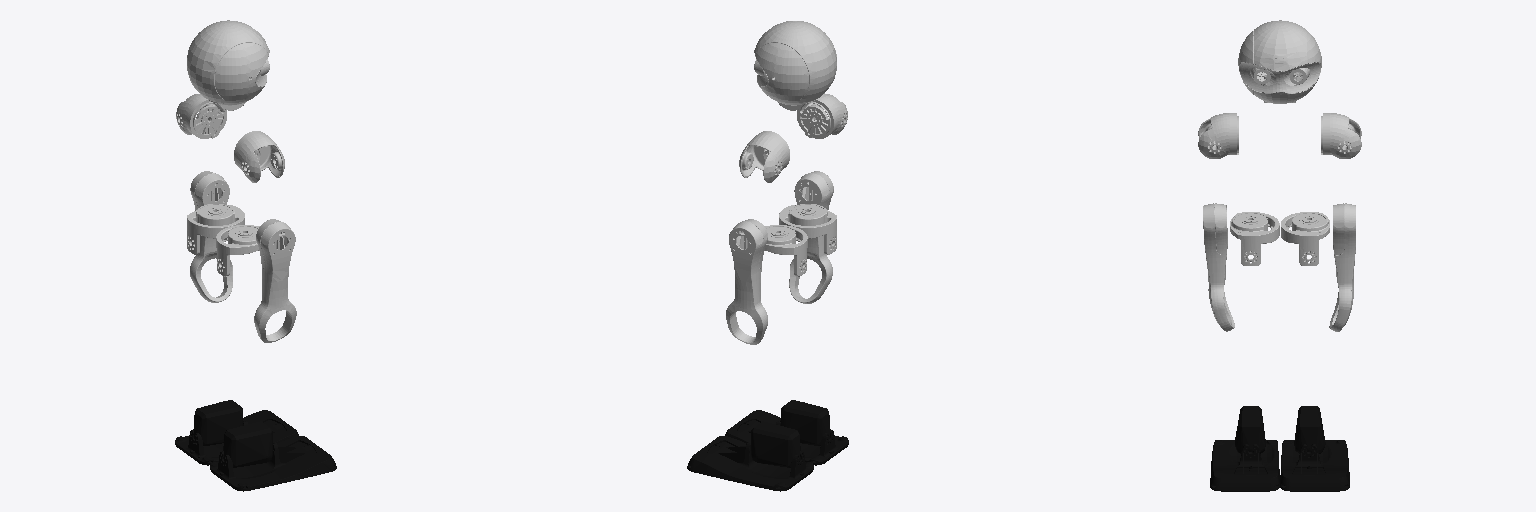
--- Render facts (derived) ---
3 views of the same robot in one strip: view 1: azimuth 30°, elevation 25°; view 2: azimuth 150°, elevation 25°; view 3: azimuth 270°, elevation 25° (orthographic).
Model igus_op with 24 links and 23 joints (20 continuous, 3 fixed), rooted at trunk_link, posed every joint at zero.
Links seen in each view (by area): view 1: head_link, right_foot_link, right_lower_arm_link, left_lower_arm_link, right_ankle_link, right_shoulder_pitch_link, left_foot_link, left_hip_yaw_link, left_shoulder_pitch_link, left_ankle_link, right_hip_yaw_link; view 2: head_link, left_foot_link, left_lower_arm_link, right_lower_arm_link, left_ankle_link, left_shoulder_pitch_link, right_foot_link, right_hip_yaw_link, right_shoulder_pitch_link, right_ankle_link, left_hip_yaw_link; view 3: head_link, left_foot_link, right_foot_link, right_lower_arm_link, left_lower_arm_link, right_hip_yaw_link, left_hip_yaw_link, right_shoulder_pitch_link, left_shoulder_pitch_link, right_ankle_link, left_ankle_link.
Link boxes in pixels (x1=…): head_link: x1=187, y1=20, x2=269, y2=110; right_foot_link: x1=210, y1=436, x2=336, y2=491; right_lower_arm_link: x1=254, y1=219, x2=296, y2=342; left_lower_arm_link: x1=190, y1=171, x2=232, y2=302; right_ankle_link: x1=223, y1=421, x2=272, y2=467; right_shoulder_pitch_link: x1=234, y1=131, x2=284, y2=182; left_foot_link: x1=175, y1=410, x2=298, y2=465; left_hip_yaw_link: x1=187, y1=204, x2=244, y2=254; left_shoulder_pitch_link: x1=176, y1=94, x2=226, y2=138; left_ankle_link: x1=193, y1=400, x2=243, y2=445; right_hip_yaw_link: x1=216, y1=225, x2=259, y2=276; head_link: x1=754, y1=21, x2=836, y2=110; left_foot_link: x1=687, y1=436, x2=813, y2=491; left_lower_arm_link: x1=726, y1=219, x2=767, y2=344; right_lower_arm_link: x1=789, y1=171, x2=833, y2=303; left_ankle_link: x1=751, y1=421, x2=800, y2=467; left_shoulder_pitch_link: x1=739, y1=131, x2=789, y2=182; right_foot_link: x1=725, y1=410, x2=848, y2=465; right_hip_yaw_link: x1=779, y1=204, x2=836, y2=254; right_shoulder_pitch_link: x1=797, y1=93, x2=847, y2=138; right_ankle_link: x1=780, y1=400, x2=830, y2=445; left_hip_yaw_link: x1=764, y1=225, x2=807, y2=276; head_link: x1=1238, y1=20, x2=1321, y2=103; left_foot_link: x1=1280, y1=440, x2=1349, y2=491; right_foot_link: x1=1210, y1=440, x2=1279, y2=491; right_lower_arm_link: x1=1203, y1=203, x2=1234, y2=331; left_lower_arm_link: x1=1329, y1=203, x2=1355, y2=331; right_hip_yaw_link: x1=1230, y1=212, x2=1279, y2=265; left_hip_yaw_link: x1=1281, y1=212, x2=1329, y2=265; right_shoulder_pitch_link: x1=1198, y1=113, x2=1238, y2=158; left_shoulder_pitch_link: x1=1321, y1=113, x2=1361, y2=158; right_ankle_link: x1=1235, y1=406, x2=1265, y2=453; left_ankle_link: x1=1294, y1=406, x2=1325, y2=453.
Bounding box of the posed robot: 0.2421 × 0.3083 × 0.8967 m (x, y, z).
Meshes: 21 distinct files referenced, 11 mesh visuals loaded (11 binary STL); not drawn: 10 (reference not matched to a file when rendering).

The robot description file, URDF, robot "igus_op":
<?xml version="1.0" ?>
<!-- =================================================================================== -->
<!-- |    This document was autogenerated by xacro from igus_op.xacro                  | -->
<!-- |    EDITING THIS FILE BY HAND IS NOT RECOMMENDED                                 | -->
<!-- =================================================================================== -->
<robot name="igus_op" xmlns:xacro="http://www.ros.org/wiki/xacro">
  <material name="black">
    <color rgba="0.1 0.1 0.1 1"/>
  </material>
  <material name="white">
    <color rgba="0.8 0.8 0.8 1"/>
  </material>
  <material name="clear">
    <color rgba="1.0 1.0 1.0 0.0"/>
  </material>
  <material name="orange">
    <color rgba="1.0 0.423529411765 0.0392156862745 1.0"/>
  </material>
  <link name="trunk_link">
    <inertial>
      <origin rpy="0 0 0" xyz="-0.016856 -0.00019822 0.019225"/>
      <mass value="1.8051"/>
      <inertia ixx="0.016444" ixy="1.4574E-05" ixz="0.00048254" iyy="0.013972" iyz="5.0355E-06" izz="0.0064508"/>
    </inertial>
    <visual>
      <origin rpy="1.57079632679 0 1.57079632679" xyz="-0.0665 0 -0.0779"/>
      <geometry>
        <mesh filename="package://nimbro_op_model/mesh/igus_op/trunk_link.stl"/>
      </geometry>
      <material name="white"/>
    </visual>
    <collision>
      <origin rpy="1.57079632679 0 1.57079632679" xyz="-0.0665 0 -0.0779"/>
      <geometry>
        <mesh filename="package://nimbro_op_model/mesh/igus_op/trunk_link.stl"/>
      </geometry>
    </collision>
  </link>
  <link name="right_hip_yaw_link">
    <inertial>
      <origin rpy="0 0 0" xyz="4.7878E-16 2.8449E-16 -0.013803"/>
      <mass value="0.073374"/>
      <inertia ixx="2.6774E-05" ixy="1.5536E-19" ixz="-9.0622E-19" iyy="0.00011478" iyz="-2.2736E-19" izz="0.00010743"/>
    </inertial>
    <visual>
      <origin rpy="1.57079632679 0 -1.57079632679" xyz="0.01625 0.03 -0.335"/>
      <geometry>
        <mesh filename="package://nimbro_op_model/mesh/igus_op/right_hip_yaw_link.stl"/>
      </geometry>
      <material name="white"/>
    </visual>
    <collision>
      <origin rpy="1.57079632679 0 -1.57079632679" xyz="0.01625 0.03 -0.335"/>
      <geometry>
        <mesh filename="package://nimbro_op_model/mesh/igus_op/right_hip_yaw_link.stl"/>
      </geometry>
    </collision>
  </link>
  <joint name="right_hip_yaw" type="continuous">
    <origin rpy="0 0 0" xyz="-0.02025 -0.055 -0.08"/>
    <parent link="trunk_link"/>
    <child link="right_hip_yaw_link"/>
    <axis xyz="0 0 1"/>
  </joint>
  <link name="right_hip_roll_link">
    <inertial>
      <origin rpy="0 0 0" xyz="0.010896 0.00023756 -0.014538"/>
      <mass value="0.35903"/>
      <inertia ixx="0.00015503" ixy="1.738E-06" ixz="8.5148E-06" iyy="0.0003299" iyz="2.4403E-07" izz="0.0002782"/>
    </inertial>
    <visual>
      <origin rpy="0 0 0" xyz="0 0 0"/>
      <geometry>
        <mesh filename="package://nimbro_op_model/mesh/igus_op/right_hip_roll_link.STL"/>
      </geometry>
      <material name="black"/>
    </visual>
    <collision>
      <origin rpy="0 0 0" xyz="0 0 0"/>
      <geometry>
        <mesh filename="package://nimbro_op_model/mesh/igus_op/right_hip_roll_link.STL"/>
      </geometry>
    </collision>
  </link>
  <joint name="right_hip_roll" type="continuous">
    <origin rpy="0 0 0" xyz="-0.00721428464376577 0 -0.0438"/>
    <parent link="right_hip_yaw_link"/>
    <child link="right_hip_roll_link"/>
    <axis xyz="1 0 0"/>
  </joint>
  <link name="right_thigh_link">
    <inertial>
      <origin rpy="0 0 0" xyz="0.0038549 0.00023828 -0.1495"/>
      <mass value="0.38276"/>
      <inertia ixx="0.0020951" ixy="1.8755E-07" ixz="-0.00017816" iyy="0.0020043" iyz="-5.4867E-06" izz="0.00027919"/>
    </inertial>
    <visual>
      <origin rpy="1.57079632679 0 -1.57079632679" xyz="-0.0065 0.03 -0.291"/>
      <geometry>
        <mesh filename="package://nimbro_op_model/mesh/igus_op/right_thigh_link.stl"/>
      </geometry>
      <material name="white"/>
    </visual>
    <collision>
      <origin rpy="1.57079632679 0 -1.57079632679" xyz="-0.0065 0.03 -0.291"/>
      <geometry>
        <mesh filename="package://nimbro_op_model/mesh/igus_op/right_thigh_link.stl"/>
      </geometry>
    </collision>
  </link>
  <joint name="right_hip_pitch" type="continuous">
    <origin rpy="0 0 0" xyz="0.0303142846437658 0 0"/>
    <parent link="right_hip_roll_link"/>
    <child link="right_thigh_link"/>
    <axis xyz="0 1 0"/>
  </joint>
  <link name="right_shank_link">
    <inertial>
      <origin rpy="0 0 0" xyz="-0.0033779 6.578E-10 -0.10469"/>
      <mass value="0.20549"/>
      <inertia ixx="0.0011378" ixy="-2.8771E-12" ixz="9.7123E-05" iyy="0.0010393" iyz="-1.4479E-11" izz="0.00019656"/>
    </inertial>
    <visual>
      <origin rpy="1.57079632679 0 -1.57079632679" xyz="-0.0065 0.03 -0.092"/>
      <geometry>
        <mesh filename="package://nimbro_op_model/mesh/igus_op/right_shank_link.stl"/>
      </geometry>
      <material name="white"/>
    </visual>
    <collision>
      <origin rpy="1.57079632679 0 -1.57079632679" xyz="-0.0065 0.03 -0.092"/>
      <geometry>
        <mesh filename="package://nimbro_op_model/mesh/igus_op/right_shank_link.stl"/>
      </geometry>
    </collision>
  </link>
  <joint name="right_knee_pitch" type="continuous">
    <origin rpy="0 0 0" xyz="0 0 -0.20"/>
    <parent link="right_thigh_link"/>
    <child link="right_shank_link"/>
    <axis xyz="0 1 0"/>
  </joint>
  <link name="right_ankle_link">
    <inertial>
      <origin rpy="0 0 0" xyz="-0.019434 0.00024988 0.014536"/>
      <mass value="0.35844"/>
      <inertia ixx="0.00015501" ixy="1.7299E-06" ixz="-8.5156E-06" iyy="0.00032958" iyz="-2.4435E-07" izz="0.00027786"/>
    </inertial>
    <visual>
      <origin rpy="0 0 0" xyz="0 0 0"/>
      <geometry>
        <mesh filename="package://nimbro_op_model/mesh/igus_op/right_ankle_link.STL"/>
      </geometry>
      <material name="black"/>
    </visual>
    <collision>
      <origin rpy="0 0 0" xyz="0 0 0"/>
      <geometry>
        <mesh filename="package://nimbro_op_model/mesh/igus_op/right_ankle_link.STL"/>
      </geometry>
    </collision>
  </link>
  <joint name="right_ankle_pitch" type="continuous">
    <origin rpy="0 0 0" xyz="0.0055 0 -0.20"/>
    <parent link="right_shank_link"/>
    <child link="right_ankle_link"/>
    <axis xyz="0 1 0"/>
  </joint>
  <link name="right_foot_link">
    <inertial>
      <origin rpy="0 0 0" xyz="0.003669 -0.0081165 -0.030903"/>
      <mass value="0.1488"/>
      <inertia ixx="0.00018527" ixy="-1.1504E-05" ixz="-7.2667E-06" iyy="0.00060485" iyz="5.8883E-06" izz="0.00075217"/>
    </inertial>
    <visual>
      <origin rpy="1.57079632679 0 -1.57079632679" xyz="-0.01 0.03 0.1075"/>
      <geometry>
        <mesh filename="package://nimbro_op_model/mesh/igus_op/right_foot_link.stl"/>
      </geometry>
      <material name="black"/>
    </visual>
    <collision>
      <origin rpy="1.57079632679 0 -1.57079632679" xyz="-0.01 0.03 0.1075"/>
      <geometry>
        <mesh filename="package://nimbro_op_model/mesh/igus_op/right_foot_link.stl"/>
      </geometry>
    </collision>
  </link>
  <joint name="right_ankle_roll" type="continuous">
    <origin rpy="0 0 0" xyz="0 0 0"/>
    <parent link="right_ankle_link"/>
    <child link="right_foot_link"/>
    <axis xyz="1 0 0"/>
  </joint>
  <link name="right_foot_plane_link">
		</link>
  <joint name="right_foot_plane_joint" type="fixed">
    <origin rpy="0 0 0" xyz="0.0009 -0.011 -0.039"/>
    <parent link="right_foot_link"/>
    <child link="right_foot_plane_link"/>
  </joint>
  <link name="left_hip_yaw_link">
    <inertial>
      <origin rpy="0 0 0" xyz="4.996E-16 2.5674E-16 -0.013803"/>
      <mass value="0.073374"/>
      <inertia ixx="2.6774E-05" ixy="1.9727E-19" ixz="-8.7961E-19" iyy="0.00011478" iyz="-2.3128E-19" izz="0.00010743"/>
    </inertial>
    <visual>
      <origin rpy="1.57079632679 0 -1.57079632679" xyz="0.01625 -0.08 -0.335"/>
      <geometry>
        <mesh filename="package://nimbro_op_model/mesh/igus_op/left_hip_yaw_link.stl"/>
      </geometry>
      <material name="white"/>
    </visual>
    <collision>
      <origin rpy="1.57079632679 0 -1.57079632679" xyz="0.01625 -0.08 -0.335"/>
      <geometry>
        <mesh filename="package://nimbro_op_model/mesh/igus_op/left_hip_yaw_link.stl"/>
      </geometry>
    </collision>
  </link>
  <joint name="left_hip_yaw" type="continuous">
    <origin rpy="0 0 0" xyz="-0.02025 0.055 -0.08"/>
    <parent link="trunk_link"/>
    <child link="left_hip_yaw_link"/>
    <axis xyz="0 0 1"/>
  </joint>
  <link name="left_hip_roll_link">
    <inertial>
      <origin rpy="0 0 0" xyz="-0.019434 -0.0002499 -0.014536"/>
      <mass value="0.35844"/>
      <!-- TODO: the origin was shifted by -0.0012 and this was not updated -->
      <inertia ixx="0.00015501" ixy="-1.7299E-06" ixz="8.5156E-06" iyy="0.00032958" iyz="-2.4435E-07" izz="0.00027786"/>
    </inertial>
    <visual>
      <origin rpy="0 0 0" xyz="0 0 0"/>
      <geometry>
        <mesh filename="package://nimbro_op_model/mesh/igus_op/left_hip_roll_link.STL"/>
      </geometry>
      <material name="black"/>
    </visual>
    <collision>
      <origin rpy="0 0 0" xyz="0 0 0"/>
      <geometry>
        <mesh filename="package://nimbro_op_model/mesh/igus_op/left_hip_roll_link.STL"/>
      </geometry>
    </collision>
  </link>
  <joint name="left_hip_roll" type="continuous">
    <origin rpy="0 0 0" xyz="0.0231 0.0 -0.0438"/>
    <parent link="left_hip_yaw_link"/>
    <child link="left_hip_roll_link"/>
    <axis xyz="1 0 0"/>
  </joint>
  <link name="left_thigh_link">
    <inertial>
      <origin rpy="0 0 0" xyz="0.0038576 -0.0002383 -0.1495"/>
      <mass value="0.38276"/>
      <!-- TODO: the origin was shifted by -0.0012 and this was not updated -->
      <inertia ixx="0.0020952" ixy="-1.9541E-07" ixz="-0.00017822" iyy="0.0020044" iyz="5.4912E-06" izz="0.00027919"/>
    </inertial>
    <visual>
      <origin rpy="1.57079632679 0 -1.57079632679" xyz="-0.0065 -0.08 -0.291"/>
      <geometry>
        <mesh filename="package://nimbro_op_model/mesh/igus_op/left_thigh_link.stl"/>
      </geometry>
      <material name="white"/>
    </visual>
    <collision>
      <origin rpy="1.57079632679 0 -1.57079632679" xyz="-0.0065 -0.08 -0.291"/>
      <geometry>
        <mesh filename="package://nimbro_op_model/mesh/igus_op/left_thigh_link.stl"/>
      </geometry>
    </collision>
  </link>
  <joint name="left_hip_pitch" type="continuous">
    <origin rpy="0 0 0" xyz="0 0 0"/>
    <parent link="left_hip_roll_link"/>
    <child link="left_thigh_link"/>
    <axis xyz="0 1 0"/>
  </joint>
  <link name="left_shank_link">
    <inertial>
      <origin rpy="0 0 0" xyz="-0.0033779 -0.0012 -0.10469"/>
      <mass value="0.20549"/>
      <inertia ixx="0.0011378" ixy="-2.8771E-12" ixz="9.7123E-05" iyy="0.0010393" iyz="-1.4479E-11" izz="0.00019656"/>
    </inertial>
    <visual>
      <origin rpy="1.57079632679 0 -1.57079632679" xyz="-0.0065 -0.08 -0.092"/>
      <geometry>
        <mesh filename="package://nimbro_op_model/mesh/igus_op/left_shank_link.stl"/>
      </geometry>
      <material name="white"/>
    </visual>
    <collision>
      <origin rpy="1.57079632679 0 -1.57079632679" xyz="-0.0065 -0.08 -0.092"/>
      <geometry>
        <mesh filename="package://nimbro_op_model/mesh/igus_op/left_shank_link.stl"/>
      </geometry>
    </collision>
  </link>
  <joint name="left_knee_pitch" type="continuous">
    <origin rpy="0 0 0" xyz="0 0 -0.20"/>
    <parent link="left_thigh_link"/>
    <child link="left_shank_link"/>
    <axis xyz="0 1 0"/>
  </joint>
  <link name="left_ankle_link">
    <inertial>
      <origin rpy="0 0 0" xyz="-0.019418 -0.0014376 0.014538"/>
      <mass value="0.35903"/>
      <inertia ixx="0.00015503" ixy="-1.738E-06" ixz="-8.5148E-06" iyy="0.0003299" iyz="2.4403E-07" izz="0.0002782"/>
    </inertial>
    <visual>
      <origin rpy="0 0 0" xyz="0 0 0"/>
      <geometry>
        <mesh filename="package://nimbro_op_model/mesh/igus_op/left_ankle_link.STL"/>
      </geometry>
      <material name="black"/>
    </visual>
    <collision>
      <origin rpy="0 0 0" xyz="0 0 0"/>
      <geometry>
        <mesh filename="package://nimbro_op_model/mesh/igus_op/left_ankle_link.STL"/>
      </geometry>
    </collision>
  </link>
  <joint name="left_ankle_pitch" type="continuous">
    <origin rpy="0 0 0" xyz="0.0055 0 -0.2"/>
    <parent link="left_shank_link"/>
    <child link="left_ankle_link"/>
    <axis xyz="0 1 0"/>
  </joint>
  <link name="left_foot_link">
    <inertial>
      <origin rpy="0 0 0" xyz="0.0036084 0.0081189 -0.03091"/>
      <mass value="0.1488"/>
      <inertia ixx="0.0001853" ixy="1.1466E-05" ixz="-8.3793E-06" iyy="0.00060485" iyz="-5.9046E-06" izz="0.00075213"/>
    </inertial>
    <visual>
      <origin rpy="1.57079632679 0 -1.57079632679" xyz="-0.01 -0.08 0.1075"/>
      <geometry>
        <mesh filename="package://nimbro_op_model/mesh/igus_op/left_foot_link.stl"/>
      </geometry>
      <material name="black"/>
    </visual>
    <collision>
      <origin rpy="1.57079632679 0 -1.57079632679" xyz="-0.01 -0.08 0.1075"/>
      <geometry>
        <mesh filename="package://nimbro_op_model/mesh/igus_op/left_foot_link.stl"/>
      </geometry>
    </collision>
  </link>
  <joint name="left_ankle_roll" type="continuous">
    <origin rpy="0 0 0" xyz="0 0 0"/>
    <parent link="left_ankle_link"/>
    <child link="left_foot_link"/>
    <axis xyz="1 0 0"/>
  </joint>
  <link name="left_foot_plane_link">
		</link>
  <joint name="left_foot_plane_joint" type="fixed">
    <origin rpy="0 0 0" xyz="0.0009 0.011 -0.039"/>
    <parent link="left_foot_link"/>
    <child link="left_foot_plane_link"/>
  </joint>
  <link name="right_shoulder_pitch_link">
    <inertial>
      <origin rpy="0 0 0" xyz="1.7347E-17 -0.014621 1.6653E-16"/>
      <mass value="0.025434"/>
      <inertia ixx="6.7511E-06" ixy="1.5595E-20" ixz="-5.4198E-21" iyy="1.2425E-05" iyz="-2.4006E-20" izz="1.4317E-05"/>
    </inertial>
    <visual>
      <origin rpy="1.57079632679 0 -1.57079632679" xyz="0 -0.0025 0"/>
      <geometry>
        <mesh filename="package://nimbro_op_model/mesh/igus_op/right_shoulder_pitch_link.stl"/>
      </geometry>
      <material name="white"/>
    </visual>
    <collision>
      <origin rpy="1.57079632679 0 -1.57079632679" xyz="0 -0.0025 0"/>
      <geometry>
        <mesh filename="package://nimbro_op_model/mesh/igus_op/right_shoulder_pitch_link.stl"/>
      </geometry>
    </collision>
  </link>
  <joint name="right_shoulder_pitch" type="continuous">
    <origin rpy="5.55111512312579E-15 6.12303176911189E-17 0" xyz="-0.0205 -0.0744999999999992 0.1075"/>
    <parent link="trunk_link"/>
    <child link="right_shoulder_pitch_link"/>
    <axis xyz="0 1 0"/>
  </joint>
  <link name="right_upper_arm_link">
    <inertial>
      <origin rpy="0 0 0" xyz="0.0013671 0.00022653 -0.049517"/>
      <mass value="0.2575"/>
      <inertia ixx="0.00081539" ixy="1.1134E-07" ixz="-5.114E-05" iyy="0.0007994" iyz="-2.4756E-06" izz="0.00012883"/>
    </inertial>
    <visual>
      <origin rpy="3.14159265358 0 1.57079632679" xyz="0 0 0"/>
      <geometry>
        <mesh filename="package://nimbro_op_model/mesh/igus_op/right_shoulder_arm_link.stl"/>
      </geometry>
      <material name="white"/>
    </visual>
    <collision>
      <origin rpy="3.14159265358 0 1.57079632679" xyz="0 0 0"/>
      <geometry>
        <mesh filename="package://nimbro_op_model/mesh/igus_op/right_shoulder_arm_link.stl"/>
      </geometry>
    </collision>
  </link>
  <joint name="right_shoulder_roll" type="continuous">
    <origin rpy="-1.11022302462516E-14 3.08148791101957E-29 2.77555756156289E-15" xyz="0 -0.0480000000000002 -0.01"/>
    <parent link="right_shoulder_pitch_link"/>
    <child link="right_upper_arm_link"/>
    <axis xyz="1 0 0"/>
  </joint>
  <link name="right_lower_arm_link">
    <inertial>
      <origin rpy="0 0 0" xyz="0.0018497 -0.00091671 -0.059095"/>
      <mass value="0.23502"/>
      <inertia ixx="0.0011613" ixy="-5.8221E-07" ixz="-7.4224E-05" iyy="0.0011747" iyz="2.0082E-05" izz="0.00010273"/>
    </inertial>
    <visual>
      <origin rpy="3.14159265358 0 1.57079632679" xyz="-0.0275 0 0.158"/>
      <geometry>
        <mesh filename="package://nimbro_op_model/mesh/igus_op/right_lower_arm_link.stl"/>
      </geometry>
      <material name="white"/>
    </visual>
    <collision>
      <origin rpy="3.14159265358 0 1.57079632679" xyz="-0.0275 0 0.158"/>
      <geometry>
        <mesh filename="package://nimbro_op_model/mesh/igus_op/right_lower_arm_link.stl"/>
      </geometry>
    </collision>
  </link>
  <joint name="right_elbow_pitch" type="continuous">
    <origin rpy="0.0402061998890168 0.00160692168991438 0.0100341647618143" xyz="0.0269999999999999 0 -0.159"/>
    <parent link="right_upper_arm_link"/>
    <child link="right_lower_arm_link"/>
    <axis xyz="0.0100339834270393 0.99914218660165 -0.0401772339697495"/>
  </joint>
  <link name="left_shoulder_pitch_link">
    <inertial>
      <origin rpy="0 0 0" xyz="-4.1633E-17 0.014621 -1.3878E-17"/>
      <mass value="0.025434"/>
      <inertia ixx="6.7511E-06" ixy="6.4644E-21" ixz="-3.365E-21" iyy="1.2425E-05" iyz="-4.6109E-22" izz="1.4317E-05"/>
    </inertial>
    <visual>
      <origin rpy="1.57079632679 0 -1.57079632679" xyz="0 -0.15 0"/>
      <geometry>
        <mesh filename="package://nimbro_op_model/mesh/igus_op/left_shoulder_pitch_link.stl"/>
      </geometry>
      <material name="white"/>
    </visual>
    <collision>
      <origin rpy="1.57079632679 0 -1.57079632679" xyz="0 -0.15 0"/>
      <geometry>
        <mesh filename="package://nimbro_op_model/mesh/igus_op/left_shoulder_pitch_link.stl"/>
      </geometry>
    </collision>
  </link>
  <joint name="left_shoulder_pitch" type="continuous">
    <origin rpy="-5.55111512312579E-15 6.12303176911189E-17 0" xyz="-0.0204999999999999 0.0745000000000003 0.1075"/>
    <parent link="trunk_link"/>
    <child link="left_shoulder_pitch_link"/>
    <axis xyz="0 1 0"/>
  </joint>
  <link name="left_upper_arm_link">
    <inertial>
      <origin rpy="0 0 0" xyz="0.0013671 0.00022653 -0.049517"/>
      <mass value="0.2575"/>
      <inertia ixx="0.00081539" ixy="1.1134E-07" ixz="-5.114E-05" iyy="0.0007994" iyz="-2.4756E-06" izz="0.00012883"/>
    </inertial>
    <visual>
      <origin rpy="3.14159265358 0 1.57079632679" xyz="0 -0.245 0"/>
      <geometry>
        <mesh filename="package://nimbro_op_model/mesh/igus_op/left_upper_arm_link.stl"/>
      </geometry>
      <material name="white"/>
    </visual>
    <collision>
      <origin rpy="3.14159265358 0 1.57079632679" xyz="0 -0.245 0"/>
      <geometry>
        <mesh filename="package://nimbro_op_model/mesh/igus_op/left_upper_arm_link.stl"/>
      </geometry>
    </collision>
  </link>
  <joint name="left_shoulder_roll" type="continuous">
    <origin rpy="-2.3129646346366E-16 3.34362837567357E-31 1.44560289664736E-15" xyz="0 0.0480000000000002 -0.01"/>
    <parent link="left_shoulder_pitch_link"/>
    <child link="left_upper_arm_link"/>
    <axis xyz="1 0 0"/>
  </joint>
  <link name="left_lower_arm_link">
    <inertial>
      <origin rpy="0 0 0" xyz="0.001742 -6.4508E-05 -0.059095"/>
      <mass value="0.23502"/>
      <inertia ixx="0.0011616" ixy="-2.6303E-07" ixz="-7.2367E-05" iyy="0.0011751" iyz="9.5624E-06" izz="0.00010214"/>
    </inertial>
    <visual>
      <origin rpy="3.14159265358 0 1.57079632679" xyz="-0.0275 -0.245 0.158"/>
      <geometry>
        <mesh filename="package://nimbro_op_model/mesh/igus_op/left_lower_arm_link.stl"/>
      </geometry>
      <material name="white"/>
    </visual>
    <collision>
      <origin rpy="3.14159265358 0 1.57079632679" xyz="-0.0275 -0.245 0.158"/>
      <geometry>
        <mesh filename="package://nimbro_op_model/mesh/igus_op/left_lower_arm_link.stl"/>
      </geometry>
    </collision>
  </link>
  <joint name="left_elbow_pitch" type="continuous">
    <origin rpy="1.61907524424511E-15 -1.17961196366425E-15 4.62592926927126E-16" xyz="0.0269999999999999 0 -0.159"/>
    <parent link="left_upper_arm_link"/>
    <child link="left_lower_arm_link"/>
    <axis xyz="0 1 0"/>
  </joint>
  <link name="neck_link">
    <inertial>
      <origin rpy="0 0 0" xyz="2.1595E-05 0.00064781 0.033208"/>
      <mass value="0.15587"/>
      <inertia ixx="7.5209E-05" ixy="-1.8422E-06" ixz="-4.9817E-07" iyy="6.2999E-05" iyz="-9.9088E-08" izz="3.826E-05"/>
    </inertial>
    <visual>
      <origin rpy="0 0 0" xyz="0 0 0"/>
      <geometry>
        <mesh filename="package://nimbro_op_model/mesh/igus_op/neck_link.STL"/>
      </geometry>
      <material name="black"/>
    </visual>
    <collision>
      <origin rpy="0 0 0" xyz="0 0 0"/>
      <geometry>
        <mesh filename="package://nimbro_op_model/mesh/igus_op/neck_link.STL"/>
      </geometry>
    </collision>
  </link>
  <joint name="neck_yaw" type="continuous">
    <origin rpy="-5.56000081322023E-15 6.05821451922983E-17 -0.145633370434016" xyz="-0.0284999999999998 0 0.1365"/>
    <parent link="trunk_link"/>
    <child link="neck_link"/>
    <axis xyz="0 0 1"/>
  </joint>
  <link name="head_link">
    <inertial>
      <origin rpy="0 0 0" xyz="0.014358 0.0005519 0.069919"/>
      <mass value="0.40746"/>
      <inertia ixx="0.0014813" ixy="3.1631E-07" ixz="-4.1003E-05" iyy="0.0016361" iyz="6.7483E-07" izz="0.0017353"/>
    </inertial>
    <visual>
      <origin rpy="1.57079632679 0 1.57079632679" xyz="0.005 0 0.0685"/>
      <geometry>
        <mesh filename="package://nimbro_op_model/mesh/igus_op/head_full.stl"/>
      </geometry>
      <material name="white"/>
    </visual>
    <collision>
      <origin rpy="1.57079632679 0 1.57079632679" xyz="0.005 0 0.0685"/>
      <geometry>
        <mesh filename="package://nimbro_op_model/mesh/igus_op/head_full.stl"/>
      </geometry>
    </collision>
  </link>
  <joint name="head_pitch" type="continuous">
    <origin rpy="-5.87630490298277E-17 -6.63424384579142E-15 0.145633370434016" xyz="0 0 0.0504999999999999"/>
    <parent link="neck_link"/>
    <child link="head_link"/>
    <axis xyz="0 1 0"/>
  </joint>
  <link name="camera_optical">
    <!--visual>
				<origin xyz="-0.0320999963345818 0.00275 -0.0675" rpy="0 0 ${180*deg}" />
				<geometry>
					<mesh filename="package://nimbro_op_model/mesh/igus_op/eye_mask_link.stl" />
				</geometry>
				<material name="orange" />
			</visual>
			<collision>
				<origin xyz="-0.0320999963345818 0.00275 -0.0675" rpy="0 0 ${180*deg}" />
				<geometry>
					<mesh filename="package://nimbro_op_model/mesh/igus_op/eye_mask_link.stl" />
				</geometry>
			</collision-->
  </link>
  <joint name="camera_joint" type="fixed">
    <origin rpy="-1.60399263964928 1.80630901483938E-16 -1.57079632679489" xyz="0.0735836299363487 -0.0320999963345818 0.070595781755363"/>
    <parent link="head_link"/>
    <child link="camera_optical"/>
    <axis xyz="0 0 0"/>
  </joint>
  <!-- Transmissions -->
  <transmission name="right_hip_yaw_transmission">
    <type>transmission_interface/SimpleTransmission</type>
    <joint name="right_hip_yaw">
      <hardwareInterface>EffortJointInterface</hardwareInterface>
    </joint>
    <actuator name="right_hip_yaw">
      <mechanicalReduction>1</mechanicalReduction>
    </actuator>
  </transmission>
  <transmission name="right_hip_roll_transmission">
    <type>transmission_interface/SimpleTransmission</type>
    <joint name="right_hip_roll">
      <hardwareInterface>EffortJointInterface</hardwareInterface>
    </joint>
    <actuator name="right_hip_roll">
      <mechanicalReduction>1</mechanicalReduction>
    </actuator>
  </transmission>
  <transmission name="right_hip_pitch_transmission">
    <type>transmission_interface/SimpleTransmission</type>
    <joint name="right_hip_pitch">
      <hardwareInterface>EffortJointInterface</hardwareInterface>
    </joint>
    <actuator name="right_hip_pitch">
      <mechanicalReduction>1</mechanicalReduction>
    </actuator>
  </transmission>
  <transmission name="right_knee_pitch_transmission">
    <type>transmission_interface/SimpleTransmission</type>
    <joint name="right_knee_pitch">
      <hardwareInterface>EffortJointInterface</hardwareInterface>
    </joint>
    <actuator name="right_knee_pitch">
      <mechanicalReduction>1</mechanicalReduction>
    </actuator>
  </transmission>
  <transmission name="right_ankle_pitch_transmission">
    <type>transmission_interface/SimpleTransmission</type>
    <joint name="right_ankle_pitch">
      <hardwareInterface>EffortJointInterface</hardwareInterface>
    </joint>
    <actuator name="right_ankle_pitch">
      <mechanicalReduction>1</mechanicalReduction>
    </actuator>
  </transmission>
  <transmission name="right_ankle_roll_transmission">
    <type>transmission_interface/SimpleTransmission</type>
    <joint name="right_ankle_roll">
      <hardwareInterface>EffortJointInterface</hardwareInterface>
    </joint>
    <actuator name="right_ankle_roll">
      <mechanicalReduction>1</mechanicalReduction>
    </actuator>
  </transmission>
  <transmission name="left_hip_yaw_transmission">
    <type>transmission_interface/SimpleTransmission</type>
    <joint name="left_hip_yaw">
      <hardwareInterface>EffortJointInterface</hardwareInterface>
    </joint>
    <actuator name="left_hip_yaw">
      <mechanicalReduction>1</mechanicalReduction>
    </actuator>
  </transmission>
  <transmission name="left_hip_roll_transmission">
    <type>transmission_interface/SimpleTransmission</type>
    <joint name="left_hip_roll">
      <hardwareInterface>EffortJointInterface</hardwareInterface>
    </joint>
    <actuator name="left_hip_roll">
      <mechanicalReduction>1</mechanicalReduction>
    </actuator>
  </transmission>
  <transmission name="left_hip_pitch_transmission">
    <type>transmission_interface/SimpleTransmission</type>
    <joint name="left_hip_pitch">
      <hardwareInterface>EffortJointInterface</hardwareInterface>
    </joint>
    <actuator name="left_hip_pitch">
      <mechanicalReduction>1</mechanicalReduction>
    </actuator>
  </transmission>
  <transmission name="left_knee_pitch_transmission">
    <type>transmission_interface/SimpleTransmission</type>
    <joint name="left_knee_pitch">
      <hardwareInterface>EffortJointInterface</hardwareInterface>
    </joint>
    <actuator name="left_knee_pitch">
      <mechanicalReduction>1</mechanicalReduction>
    </actuator>
  </transmission>
  <transmission name="left_ankle_pitch_transmission">
    <type>transmission_interface/SimpleTransmission</type>
    <joint name="left_ankle_pitch">
      <hardwareInterface>EffortJointInterface</hardwareInterface>
    </joint>
    <actuator name="left_ankle_pitch">
      <mechanicalReduction>1</mechanicalReduction>
    </actuator>
  </transmission>
  <transmission name="left_ankle_roll_transmission">
    <type>transmission_interface/SimpleTransmission</type>
    <joint name="left_ankle_roll">
      <hardwareInterface>EffortJointInterface</hardwareInterface>
    </joint>
    <actuator name="left_ankle_roll">
      <mechanicalReduction>1</mechanicalReduction>
    </actuator>
  </transmission>
  <transmission name="right_shoulder_pitch_transmission">
    <type>transmission_interface/SimpleTransmission</type>
    <joint name="right_shoulder_pitch">
      <hardwareInterface>EffortJointInterface</hardwareInterface>
    </joint>
    <actuator name="right_shoulder_pitch">
      <mechanicalReduction>1</mechanicalReduction>
    </actuator>
  </transmission>
  <transmission name="right_shoulder_roll_transmission">
    <type>transmission_interface/SimpleTransmission</type>
    <joint name="right_shoulder_roll">
      <hardwareInterface>EffortJointInterface</hardwareInterface>
    </joint>
    <actuator name="right_shoulder_roll">
      <mechanicalReduction>1</mechanicalReduction>
    </actuator>
  </transmission>
  <transmission name="right_elbow_pitch_transmission">
    <type>transmission_interface/SimpleTransmission</type>
    <joint name="right_elbow_pitch">
      <hardwareInterface>EffortJointInterface</hardwareInterface>
    </joint>
    <actuator name="right_elbow_pitch">
      <mechanicalReduction>1</mechanicalReduction>
    </actuator>
  </transmission>
  <transmission name="left_shoulder_pitch_transmission">
    <type>transmission_interface/SimpleTransmission</type>
    <joint name="left_shoulder_pitch">
      <hardwareInterface>EffortJointInterface</hardwareInterface>
    </joint>
    <actuator name="left_shoulder_pitch">
      <mechanicalReduction>1</mechanicalReduction>
    </actuator>
  </transmission>
  <transmission name="left_shoulder_roll_transmission">
    <type>transmission_interface/SimpleTransmission</type>
    <joint name="left_shoulder_roll">
      <hardwareInterface>EffortJointInterface</hardwareInterface>
    </joint>
    <actuator name="left_shoulder_roll">
      <mechanicalReduction>1</mechanicalReduction>
    </actuator>
  </transmission>
  <transmission name="left_elbow_pitch_transmission">
    <type>transmission_interface/SimpleTransmission</type>
    <joint name="left_elbow_pitch">
      <hardwareInterface>EffortJointInterface</hardwareInterface>
    </joint>
    <actuator name="left_elbow_pitch">
      <mechanicalReduction>1</mechanicalReduction>
    </actuator>
  </transmission>
  <transmission name="neck_yaw_transmission">
    <type>transmission_interface/SimpleTransmission</type>
    <joint name="neck_yaw">
      <hardwareInterface>EffortJointInterface</hardwareInterface>
    </joint>
    <actuator name="neck_yaw">
      <mechanicalReduction>1</mechanicalReduction>
    </actuator>
  </transmission>
  <transmission name="head_pitch_transmission">
    <type>transmission_interface/SimpleTransmission</type>
    <joint name="head_pitch">
      <hardwareInterface>EffortJointInterface</hardwareInterface>
    </joint>
    <actuator name="head_pitch">
      <mechanicalReduction>1</mechanicalReduction>
    </actuator>
  </transmission>
  <!-- Gazebo configuration -->
  <gazebo>
    <plugin filename="libgazebo_ros_control.so" name="gazebo_ros_control">
      <robotNamespace>/nimbro_op</robotNamespace>
    </plugin>
  </gazebo>
  <!-- Gazebo links -->
  <gazebo reference="trunk_link">
    <material>Gazebo/FlatBlack</material>
  </gazebo>
  <gazebo reference="left_hip_yaw_link">
    <material>Gazebo/FlatBlack</material>
  </gazebo>
  <gazebo reference="left_hip_roll_link">
    <material>Gazebo/Black</material>
  </gazebo>
  <gazebo reference="left_thigh_link">
    <material>Gazebo/FlatBlack</material>
  </gazebo>
  <gazebo reference="left_shank_link">
    <material>Gazebo/FlatBlack</material>
  </gazebo>
  <gazebo reference="left_ankle_link">
    <material>Gazebo/Black</material>
  </gazebo>
  <gazebo reference="left_foot_link">
    <material>Gazebo/FlatBlack</material>
    <kp>1000000.0</kp>
    <kd>100.0</kd>
    <mu1>1.0</mu1>
    <mu2>1.0</mu2>
    <fdir1>1 0 0</fdir1>
    <maxVel>1.0</maxVel>
    <minDepth>0.00</minDepth>
  </gazebo>
  <gazebo reference="left_shoulder_pitch_link">
    <material>Gazebo/Black</material>
  </gazebo>
  <gazebo reference="left_upper_arm_link">
    <material>Gazebo/FlatBlack</material>
  </gazebo>
  <gazebo reference="left_lower_arm_link">
    <material>Gazebo/FlatBlack</material>
  </gazebo>
  <gazebo reference="right_hip_yaw_link">
    <material>Gazebo/FlatBlack</material>
  </gazebo>
  <gazebo reference="right_hip_roll_link">
    <material>Gazebo/Black</material>
  </gazebo>
  <gazebo reference="right_thigh_link">
    <material>Gazebo/FlatBlack</material>
  </gazebo>
  <gazebo reference="right_shank_link">
    <material>Gazebo/FlatBlack</material>
  </gazebo>
  <gazebo reference="right_ankle_link">
    <material>Gazebo/Black</material>
  </gazebo>
  <gazebo reference="right_foot_link">
    <material>Gazebo/FlatBlack</material>
    <kp>1000000.0</kp>
    <kd>100.0</kd>
    <mu1>1.0</mu1>
    <mu2>1.0</mu2>
    <fdir1>1 0 0</fdir1>
    <maxVel>1.0</maxVel>
    <minDepth>0.00</minDepth>
  </gazebo>
  <gazebo reference="right_shoulder_pitch_link">
    <material>Gazebo/Black</material>
  </gazebo>
  <gazebo reference="right_upper_arm_link">
    <material>Gazebo/FlatBlack</material>
  </gazebo>
  <gazebo reference="right_lower_arm_link">
    <material>Gazebo/FlatBlack</material>
  </gazebo>
  <gazebo reference="neck_link">
    <material>Gazebo/Black</material>
  </gazebo>
</robot>
